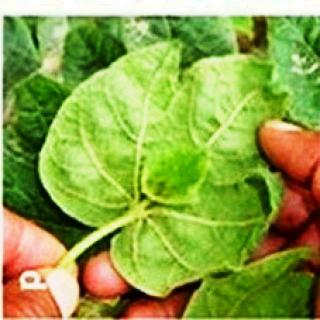curl: (125, 119, 221, 209)
